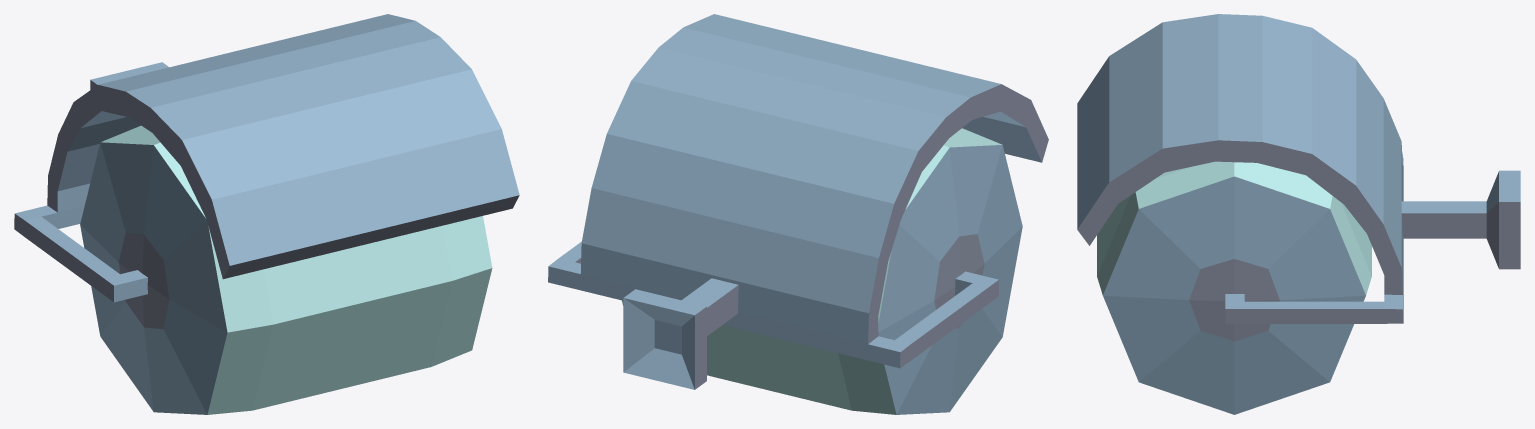
File: Toilet Paper Roll.fbx
The picture shows the model from 3 angles, left to right: view 1: azimuth 30°, elevation 25°; view 2: azimuth 150°, elevation 25°; view 3: azimuth 270°, elevation 25°; orthographic projection. The views are drawn at different scales.
Visible parts, largest first — view 1: Toilet Paper Roll; view 2: Toilet Paper Roll; view 3: Toilet Paper Roll.
Boxes of the visible parts, box(x1,y1,x2,y2) form: Toilet Paper Roll: box(14, 14, 519, 414); Toilet Paper Roll: box(548, 14, 1048, 414); Toilet Paper Roll: box(1077, 14, 1520, 414).
Bounding box in the file's own units: 31.08 × 26.73 × 37.61.
